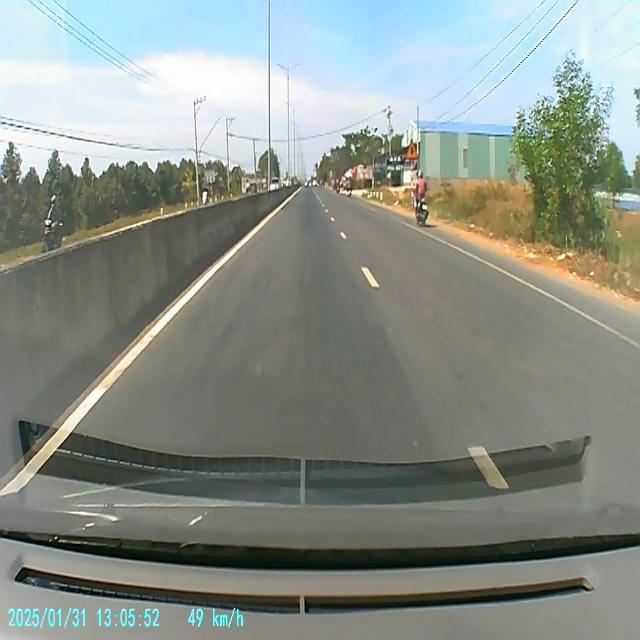207-giao-nhau-voi-duong-khong-uu-tien: (404, 138, 420, 160)
